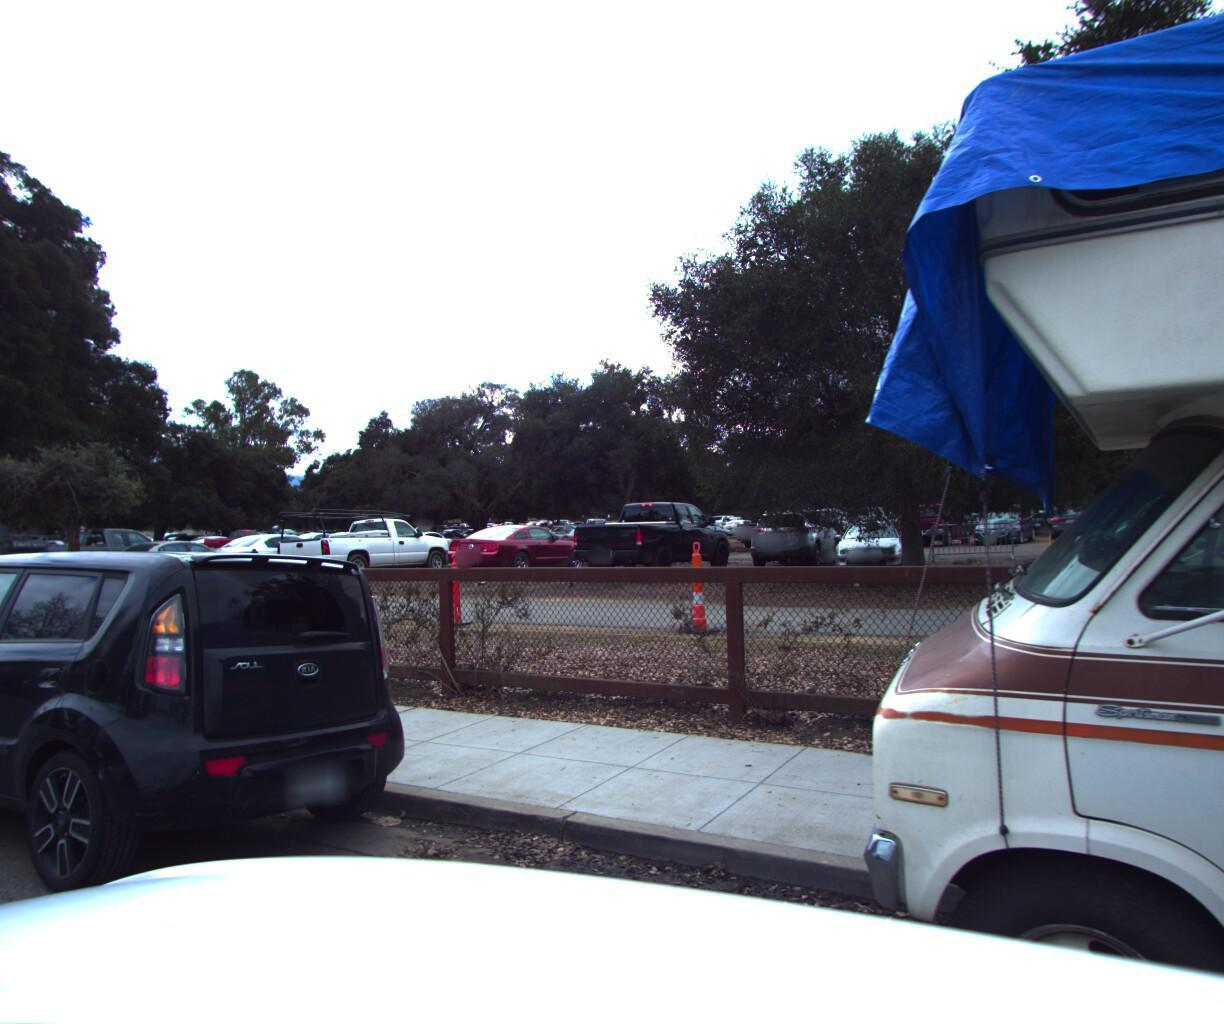car: (0, 525, 440, 960), (0, 521, 187, 591), (86, 531, 251, 591), (0, 540, 32, 810), (0, 529, 94, 594), (0, 532, 52, 586)
